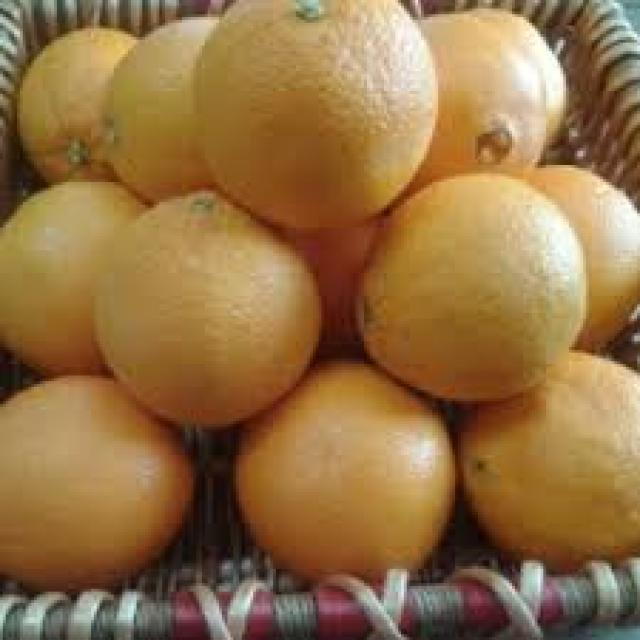Good_Orange: (191, 0, 441, 233), (350, 174, 592, 410), (94, 191, 321, 432), (230, 358, 458, 592), (0, 375, 196, 597)
